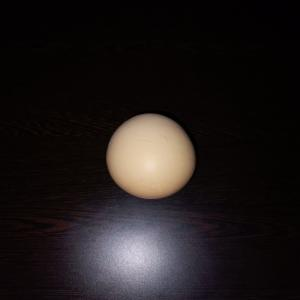Egg: (105, 107, 202, 204)
